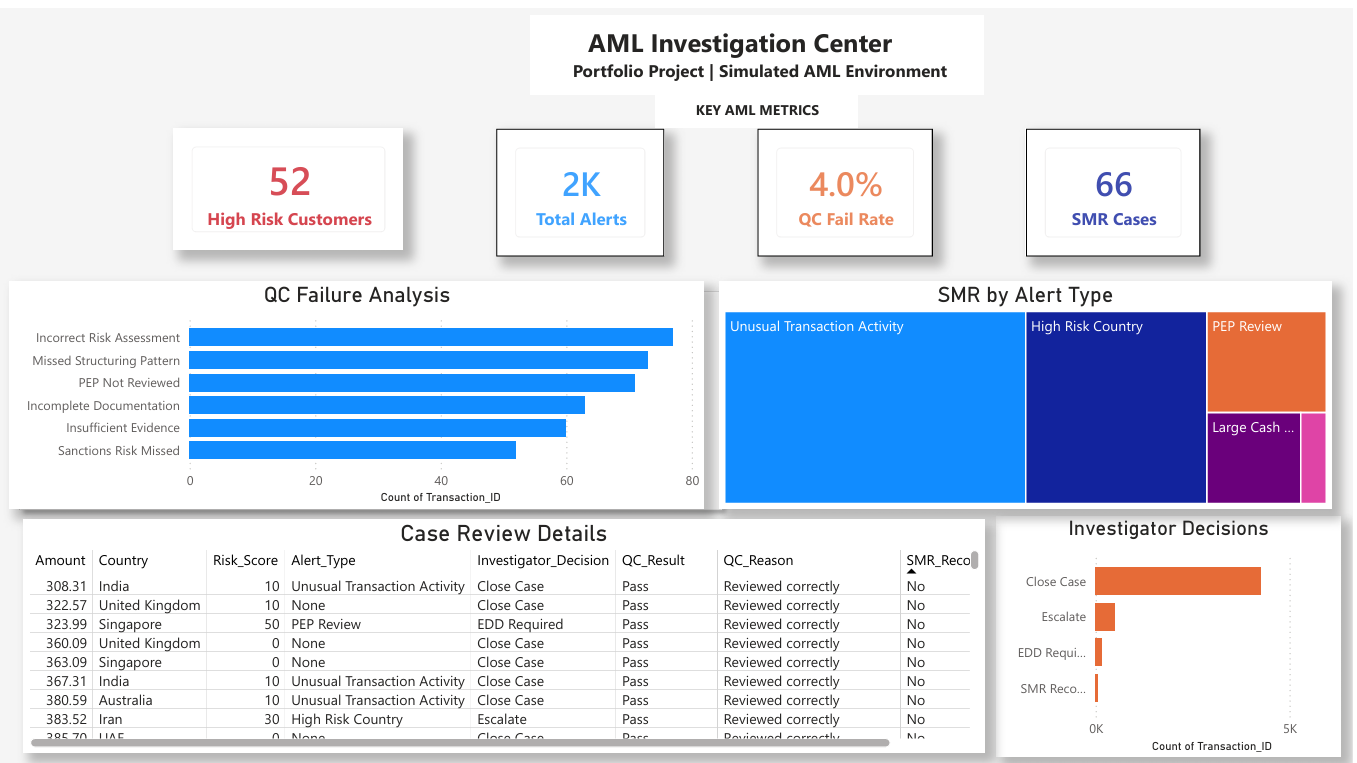

What the dashboard file says about the page in this screenshot:
{"tool":"powerbi","page":{"name":"AML Investigation Centre","canvas":[1280,720],"ordinal":1},"visuals":[{"type":"shape","box":[9.7,258.7,682.8,225.7],"z":0},{"type":"cardVisual","fields":{"Data":["AML_Transactions.Total Alerts"]},"box":[470.1,113.8,158.5,121.6],"z":1000},{"type":"cardVisual","fields":{"Data":["AML_Transactions.QC Fail Rate"]},"box":[716.5,113.8,166.3,121.6],"z":2000},{"type":"cardVisual","fields":{"Data":["AML_Transactions.High Risk Customers"]},"box":[165.3,113.8,216.9,114.8],"z":3000},{"type":"cardVisual","fields":{"Data":["AML_Transactions.SMR Recommendations"]},"box":[970.7,113.8,165.3,121.6],"z":4000},{"type":"barChart","title":"Investigator Decisions ","fields":{"Y":["CountNonNull(AML_Transactions.Transaction_ID)"],"Category":["AML_Transactions.Investigator_Decision"]},"box":[943.5,481.5,325.8,227.6],"z":5000},{"type":"barChart","title":"QC Failure Analysis","fields":{"Category":["AML_Transactions.QC_Reason"],"Y":["CountNonNull(AML_Transactions.Transaction_ID)"]},"box":[9.7,258.7,657.5,215],"z":6000},{"type":"treemap","title":"SMR by Alert Type","fields":{"Group":["AML_Transactions.Alert_Type"],"Values":["CountNonNull(AML_Transactions.Transaction_ID)"]},"box":[680.9,258.7,578.7,215],"z":7000},{"type":"tableEx","title":"Case Review Details ","fields":{"Values":["AML_Transactions.Amount","AML_Transactions.Country","AML_Transactions.Risk_Score","AML_Transactions.Alert_Type","AML_Transactions.Investigator_Decision","AML_Transactions.QC_Result","AML_Transactions.QC_Reason","AML_Transactions.SMR_Recommendation"]},"box":[23.3,484.4,908.4,220.8],"z":8000},{"type":"textbox","box":[501.9,6.8,428.9,74.9],"z":9000},{"type":"textbox","box":[620.5,81.7,192.6,32.1],"z":10000}]}

Visuals, with their boxes in screenshot pixels (x1, y1, x2, y2), scaled from the page's 1280x720 canvas onto the 1357x763 screenshot:
shape: <region>10, 274, 734, 513</region>
cardVisual - AML_Transactions.Total Alerts: <region>498, 121, 666, 249</region>
cardVisual - AML_Transactions.QC Fail Rate: <region>760, 121, 936, 249</region>
cardVisual - AML_Transactions.High Risk Customers: <region>175, 121, 405, 242</region>
cardVisual - AML_Transactions.SMR Recommendations: <region>1029, 121, 1204, 249</region>
"Investigator Decisions " barChart: <region>1000, 510, 1346, 751</region>
"QC Failure Analysis" barChart: <region>10, 274, 707, 502</region>
"SMR by Alert Type" treemap: <region>722, 274, 1335, 502</region>
"Case Review Details " tableEx: <region>25, 513, 988, 747</region>
textbox: <region>532, 7, 987, 87</region>
textbox: <region>658, 87, 862, 121</region>
